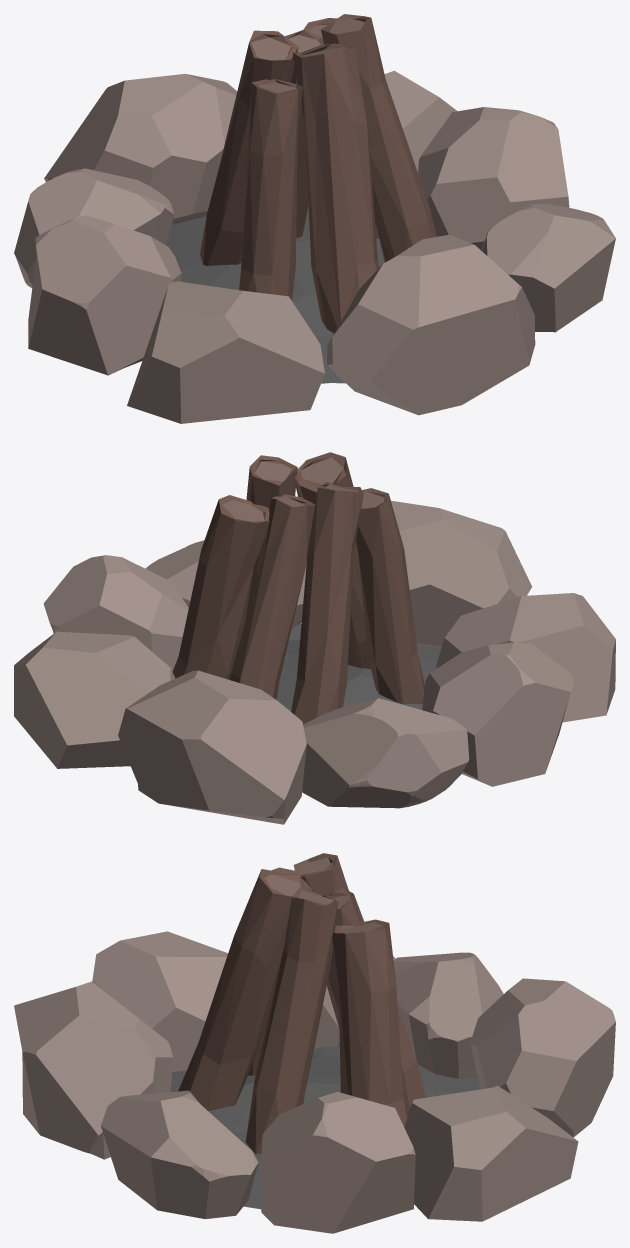
The model's file is Cozy_Campfire_01.fbx.
The picture shows the model from 3 angles, top to bottom: view 1: azimuth 30°, elevation 25°; view 2: azimuth 150°, elevation 25°; view 3: azimuth 270°, elevation 25°; orthographic projection. The views are drawn at different scales.
Visible parts, largest first — view 1: Cozy_Campfire_01; view 2: Cozy_Campfire_01; view 3: Cozy_Campfire_01.
Part boxes in pixels (left/top/right/bottom): Cozy_Campfire_01: left=14, top=14, right=615, bottom=423; Cozy_Campfire_01: left=14, top=452, right=615, bottom=824; Cozy_Campfire_01: left=14, top=853, right=615, bottom=1233.
Size of the model in its own units: 109 by 51.94 by 113.
